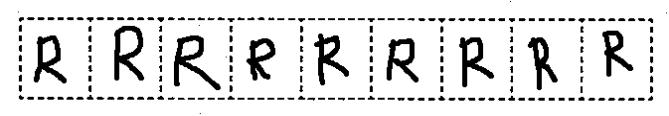R: (172, 33, 223, 93), (454, 31, 498, 91), (108, 23, 150, 83), (311, 30, 353, 87), (523, 33, 562, 92), (30, 31, 70, 88), (382, 34, 426, 85), (596, 27, 637, 78), (243, 34, 279, 82)
